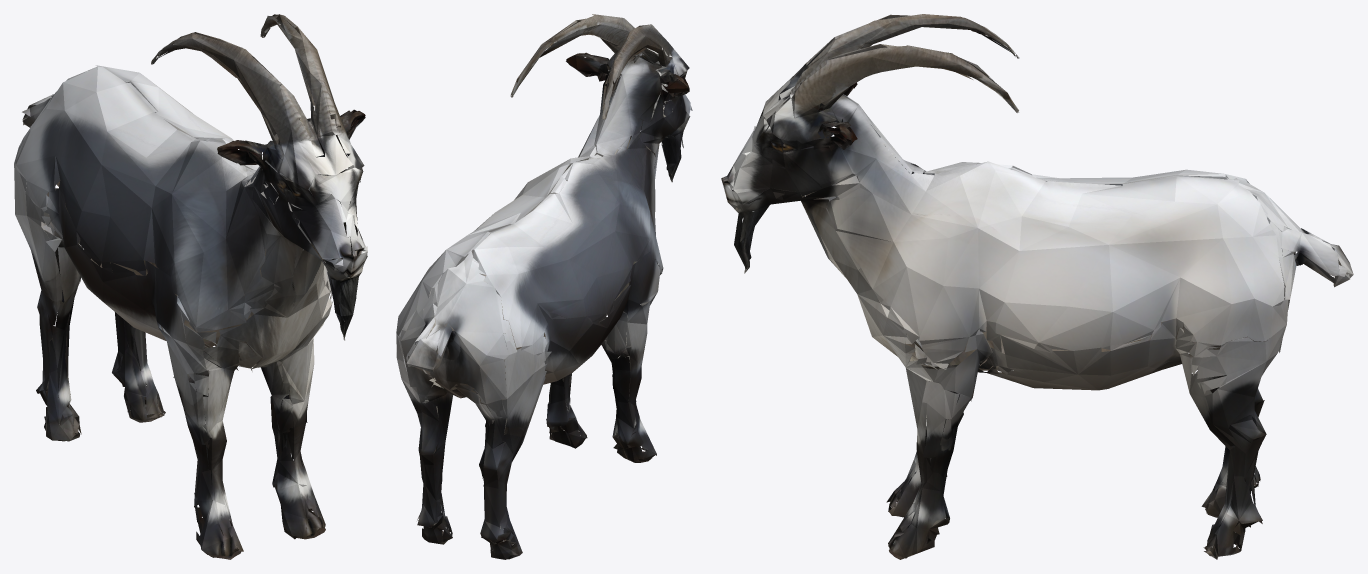
File: goat.glb
3 views of the same model, side by side, from view 1: azimuth 30°, elevation 25°; view 2: azimuth 150°, elevation 25°; view 3: azimuth 270°, elevation 25° (orthographic). The views are drawn at different scales.
Visible parts, largest first — view 1: Mesh_0.062; view 2: Mesh_0.062; view 3: Mesh_0.062.
Boxes of the visible parts, bbox=[...] form: Mesh_0.062: bbox=[14, 14, 367, 559]; Mesh_0.062: bbox=[396, 14, 692, 559]; Mesh_0.062: bbox=[721, 14, 1353, 559].
Bounding box in the file's own units: 0.6164 × 1.77 × 2.01.
Materials: 1 (1 with a texture image).
